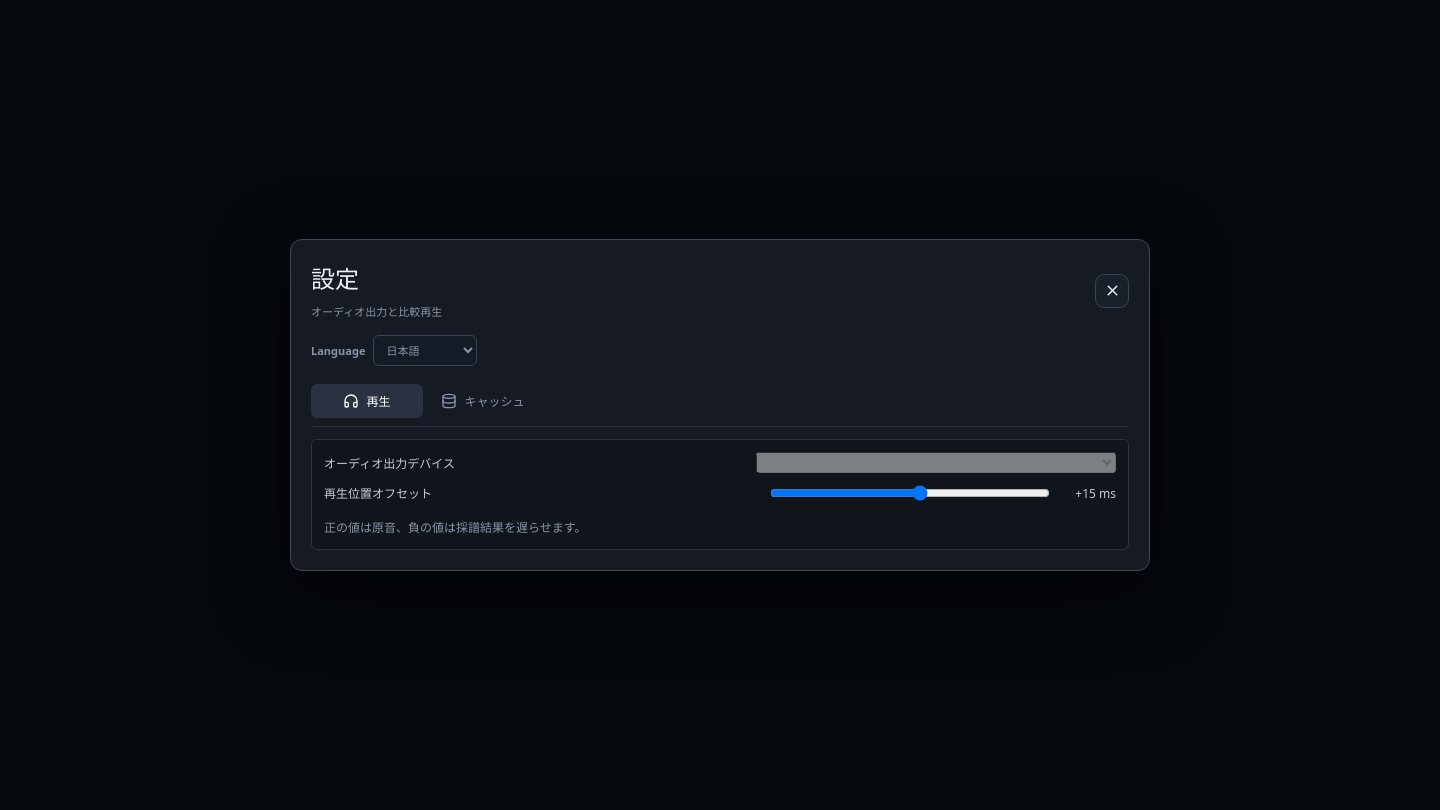
SettingsDialog › persists signed playback offsets selected from the slider
Set the slider labelled "再生位置オフセット" to "-200" at (778, 493), box [770, 485, 1050, 501]
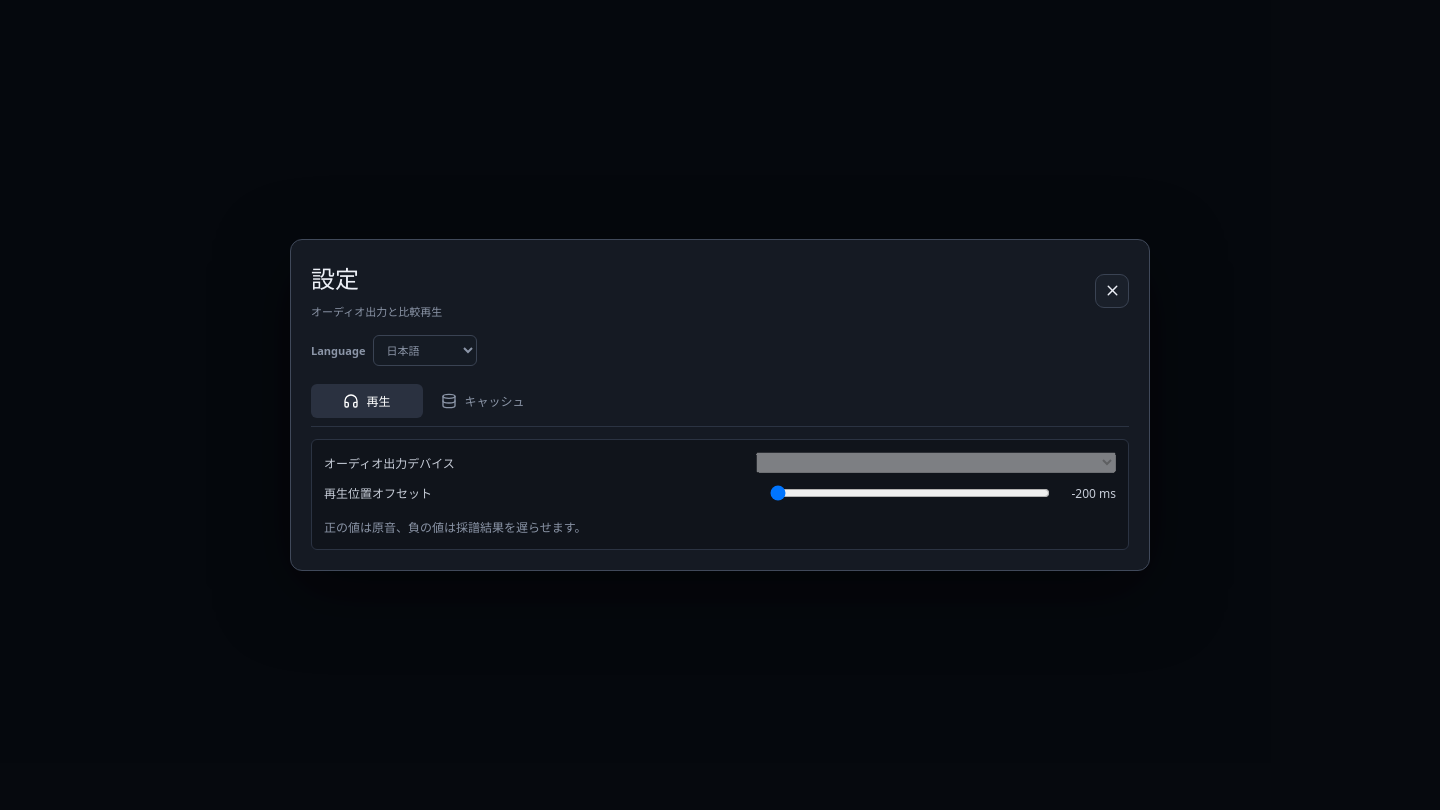
Expected: the text "-200 ms" is shown, [1071, 484, 1116, 502]
Set the slider labelled "再生位置オフセット" to "200" at (1042, 493), box [770, 485, 1050, 501]
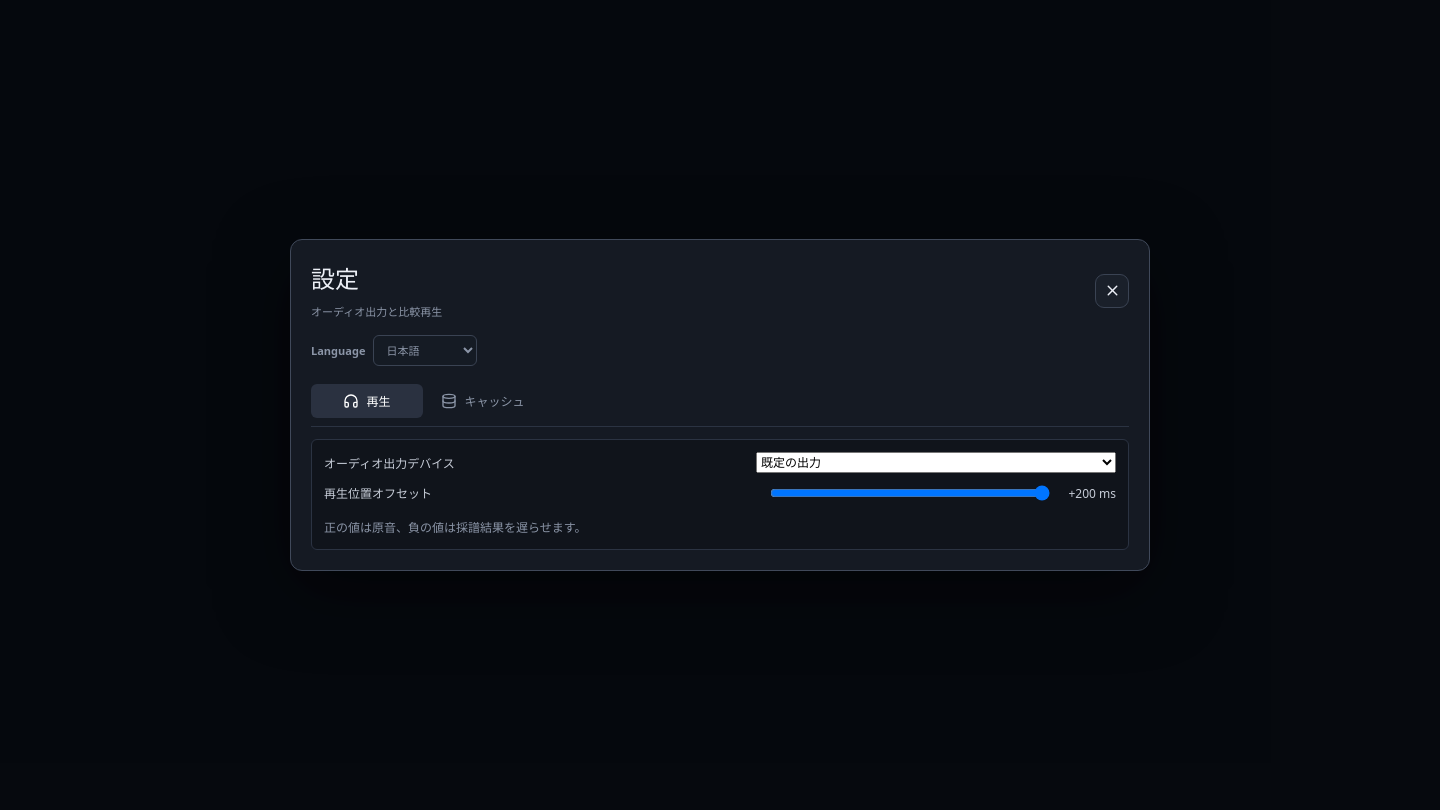
Expected: the text "正の値は原音、負の値は採譜結果を遅らせます。" is shown, [324, 519, 587, 536]
Expected: the text "+200 ms" is shown, [1068, 484, 1116, 502]
